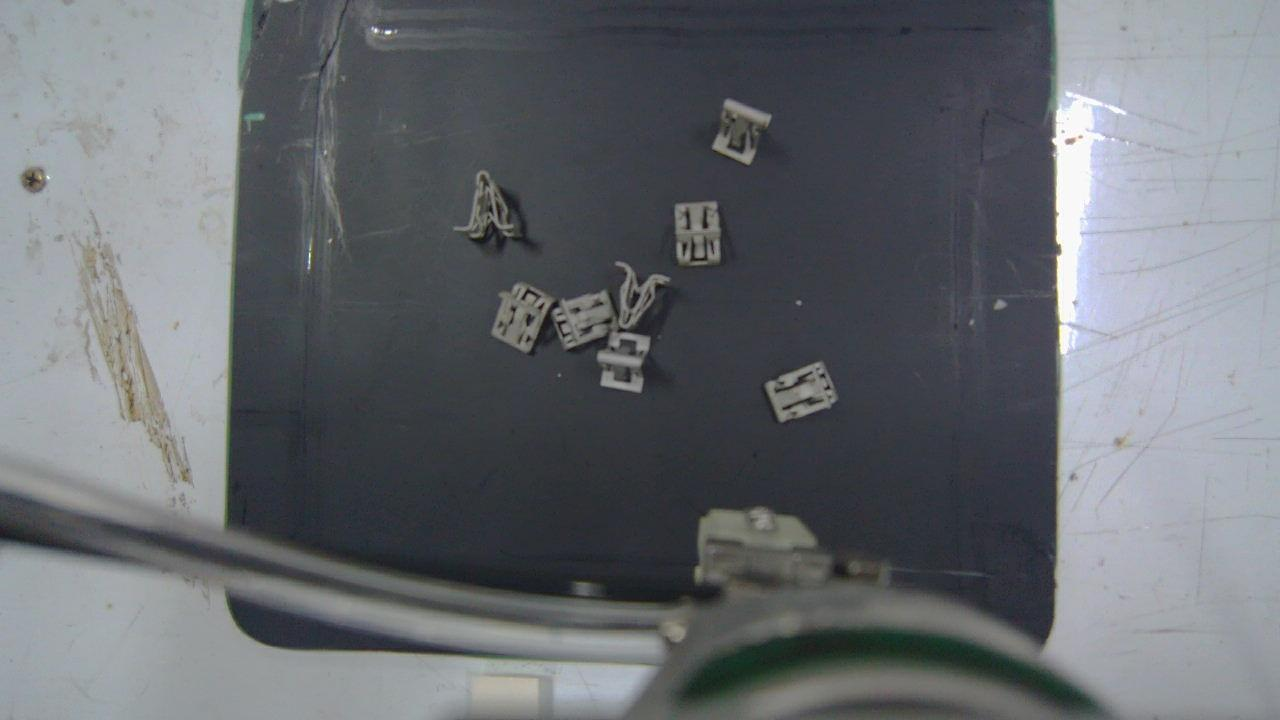ng: (454, 168, 519, 240), (763, 362, 836, 423), (492, 281, 553, 350), (550, 291, 619, 351), (712, 98, 770, 163), (618, 261, 675, 326), (673, 200, 719, 264)
pass: (599, 330, 654, 391)
